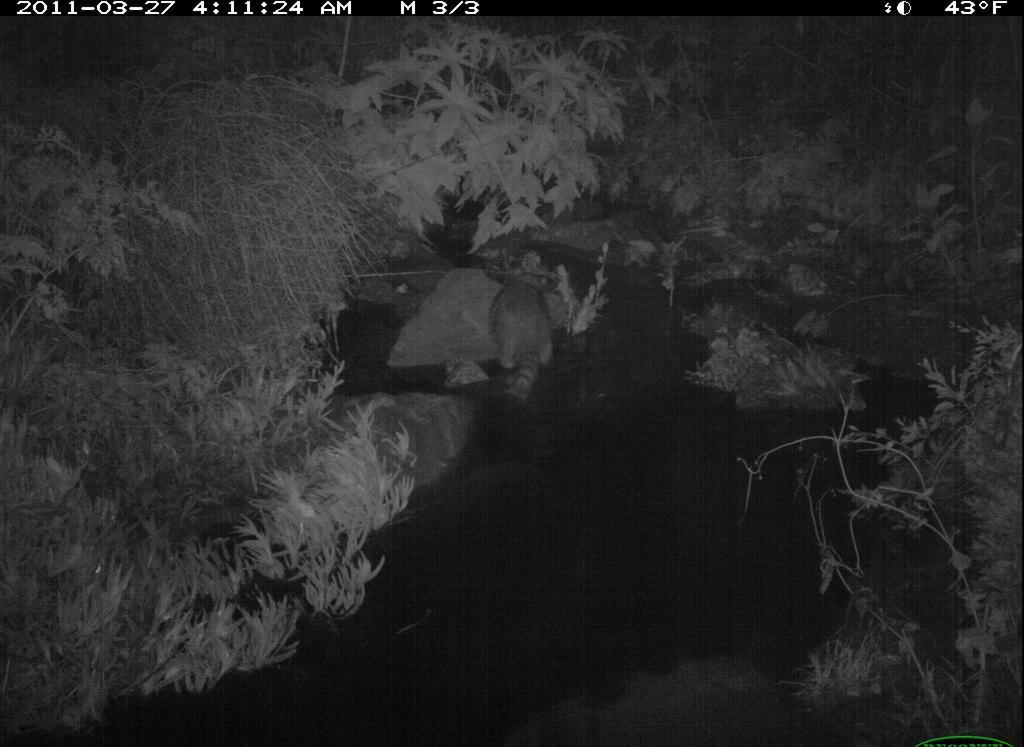raccoon: (484, 267, 568, 401)
